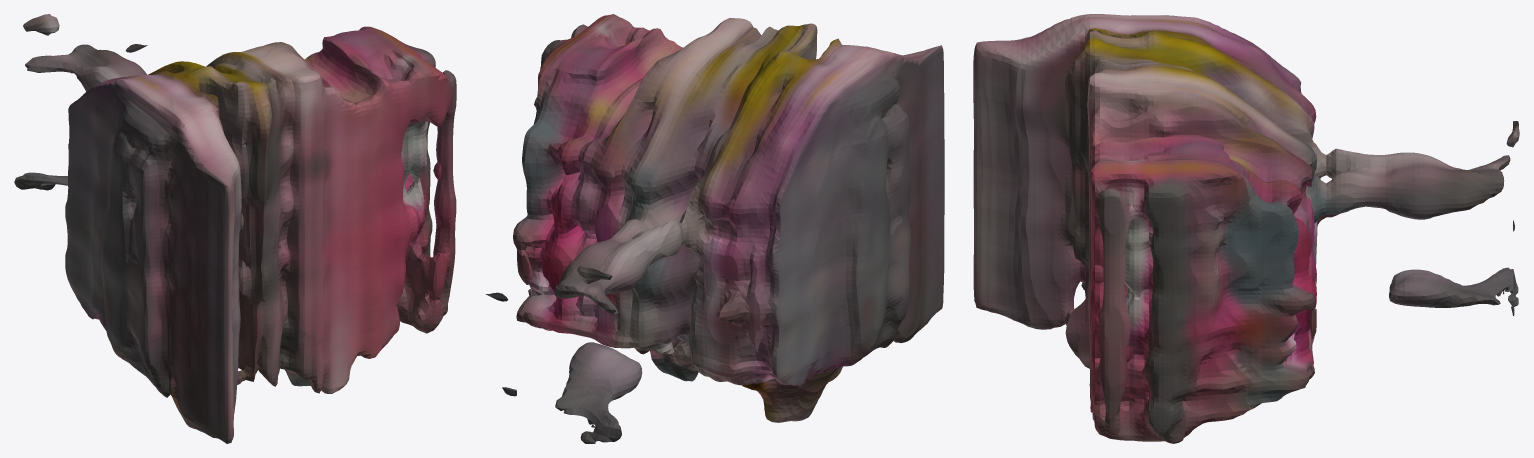
The model's file is a_pink_tv.glb.
The picture shows the model from 3 angles, left to right: view 1: azimuth 30°, elevation 25°; view 2: azimuth 150°, elevation 25°; view 3: azimuth 270°, elevation 25°; orthographic projection. The views are drawn at different scales.
Visible parts, largest first — view 1: a_pink_tv.obj; view 2: a_pink_tv.obj; view 3: a_pink_tv.obj.
Boxes of the visible parts, left/top/right/bottom form: a_pink_tv.obj: left=14, top=14, right=456, bottom=443; a_pink_tv.obj: left=485, top=14, right=944, bottom=443; a_pink_tv.obj: left=973, top=14, right=1519, bottom=443.
Size of the model in its own units: 1.19 by 1.29 by 1.72.
